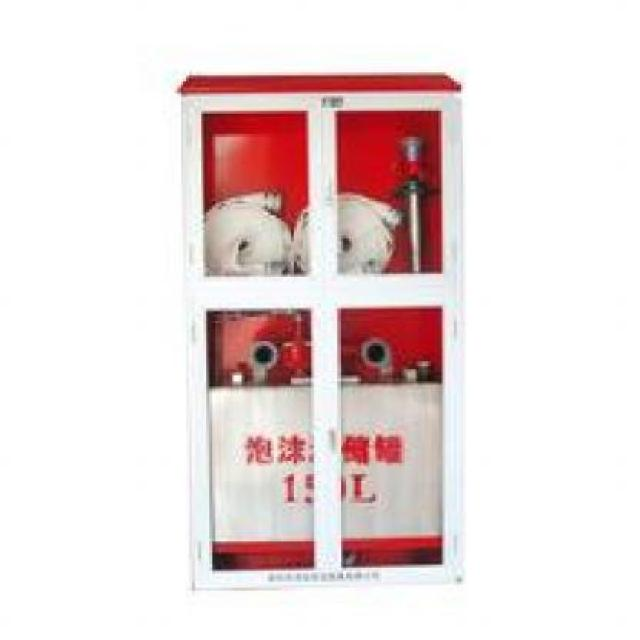firehydrant: (175, 69, 471, 600)
